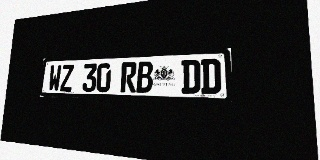0: (96, 63, 111, 92)
3: (82, 63, 97, 92)
B: (136, 61, 153, 93)
D: (201, 59, 221, 94), (181, 59, 200, 94)
R: (120, 62, 137, 93)
W: (48, 65, 62, 91)
Z: (60, 64, 74, 92)
